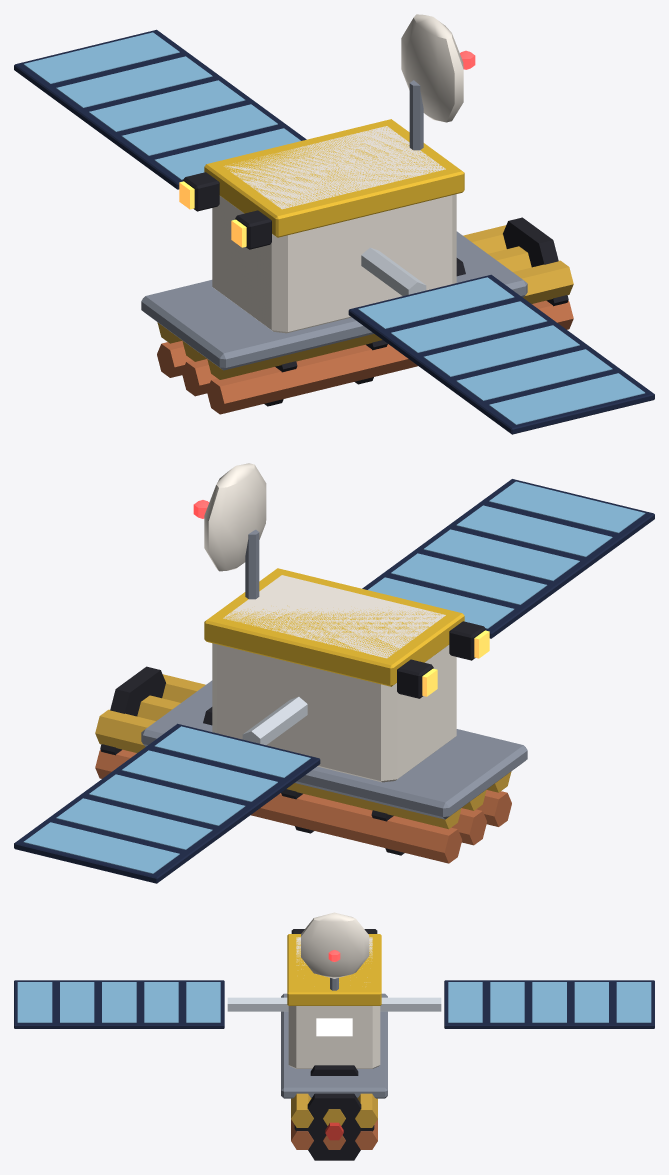
Rendered from kinetic_sat.glb.
3 views of the same model, one above another, from view 1: azimuth 30°, elevation 25°; view 2: azimuth 150°, elevation 25°; view 3: azimuth 270°, elevation 25° (orthographic). The views are drawn at different scales.
Visible parts, largest first — view 1: kinetic_sat; view 2: kinetic_sat; view 3: kinetic_sat.
Part boxes in pixels (x1,y1,x2,y2): kinetic_sat: [14, 14, 654, 434]; kinetic_sat: [14, 463, 654, 883]; kinetic_sat: [14, 912, 654, 1160].
Bounding box in the file's own units: 18 × 15.55 × 42.
1 material, 1 textured.
